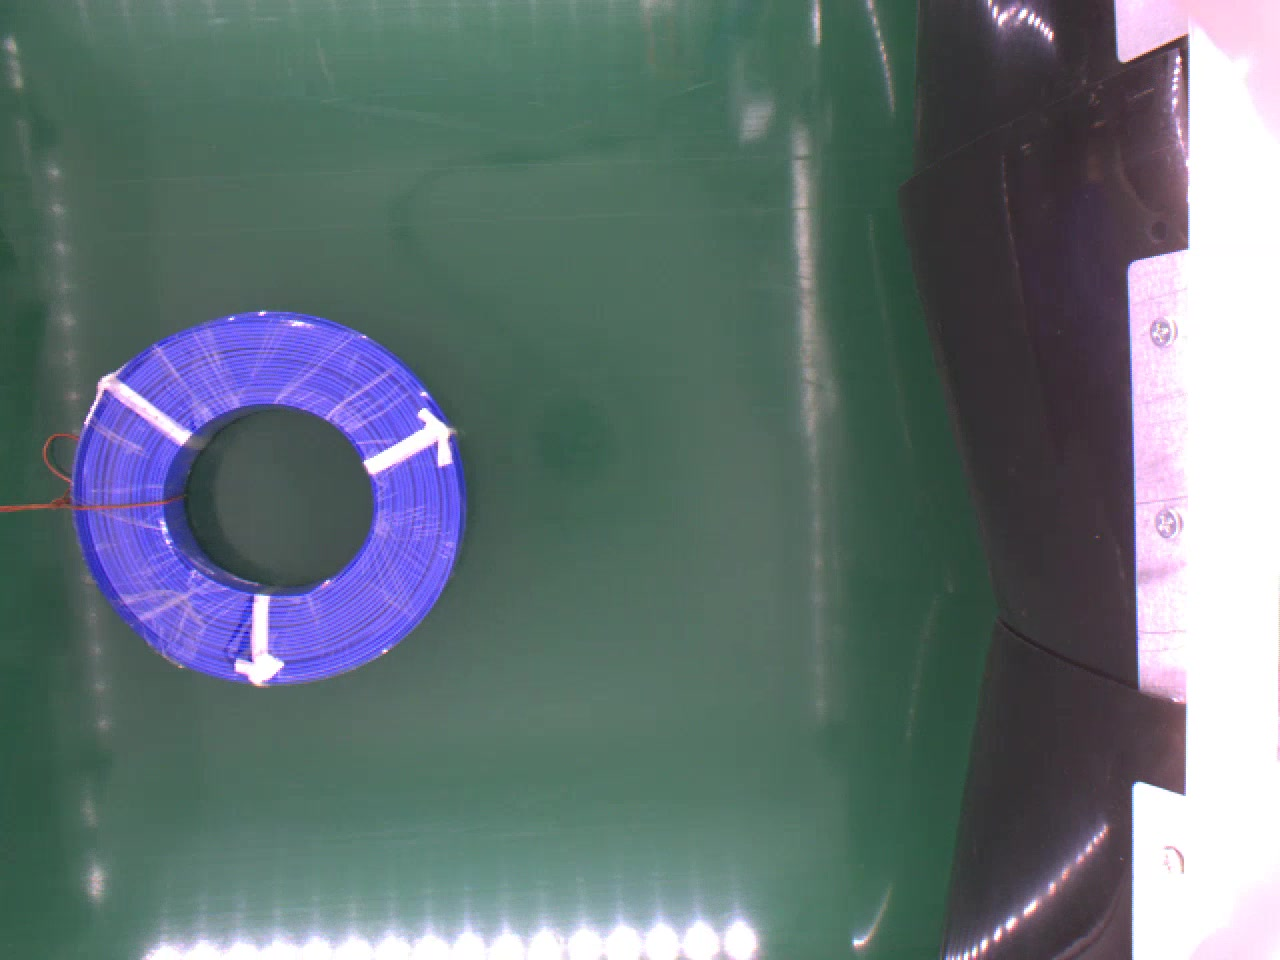blue: (71, 307, 462, 685)
